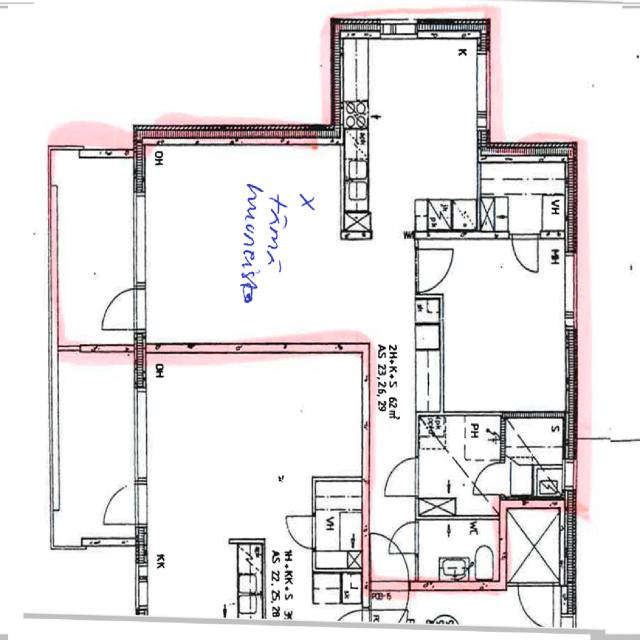door: (371, 534, 409, 590), (371, 581, 409, 637), (100, 288, 145, 330), (414, 248, 452, 292), (383, 458, 419, 496), (513, 230, 539, 272), (388, 522, 419, 554), (475, 464, 505, 494)
